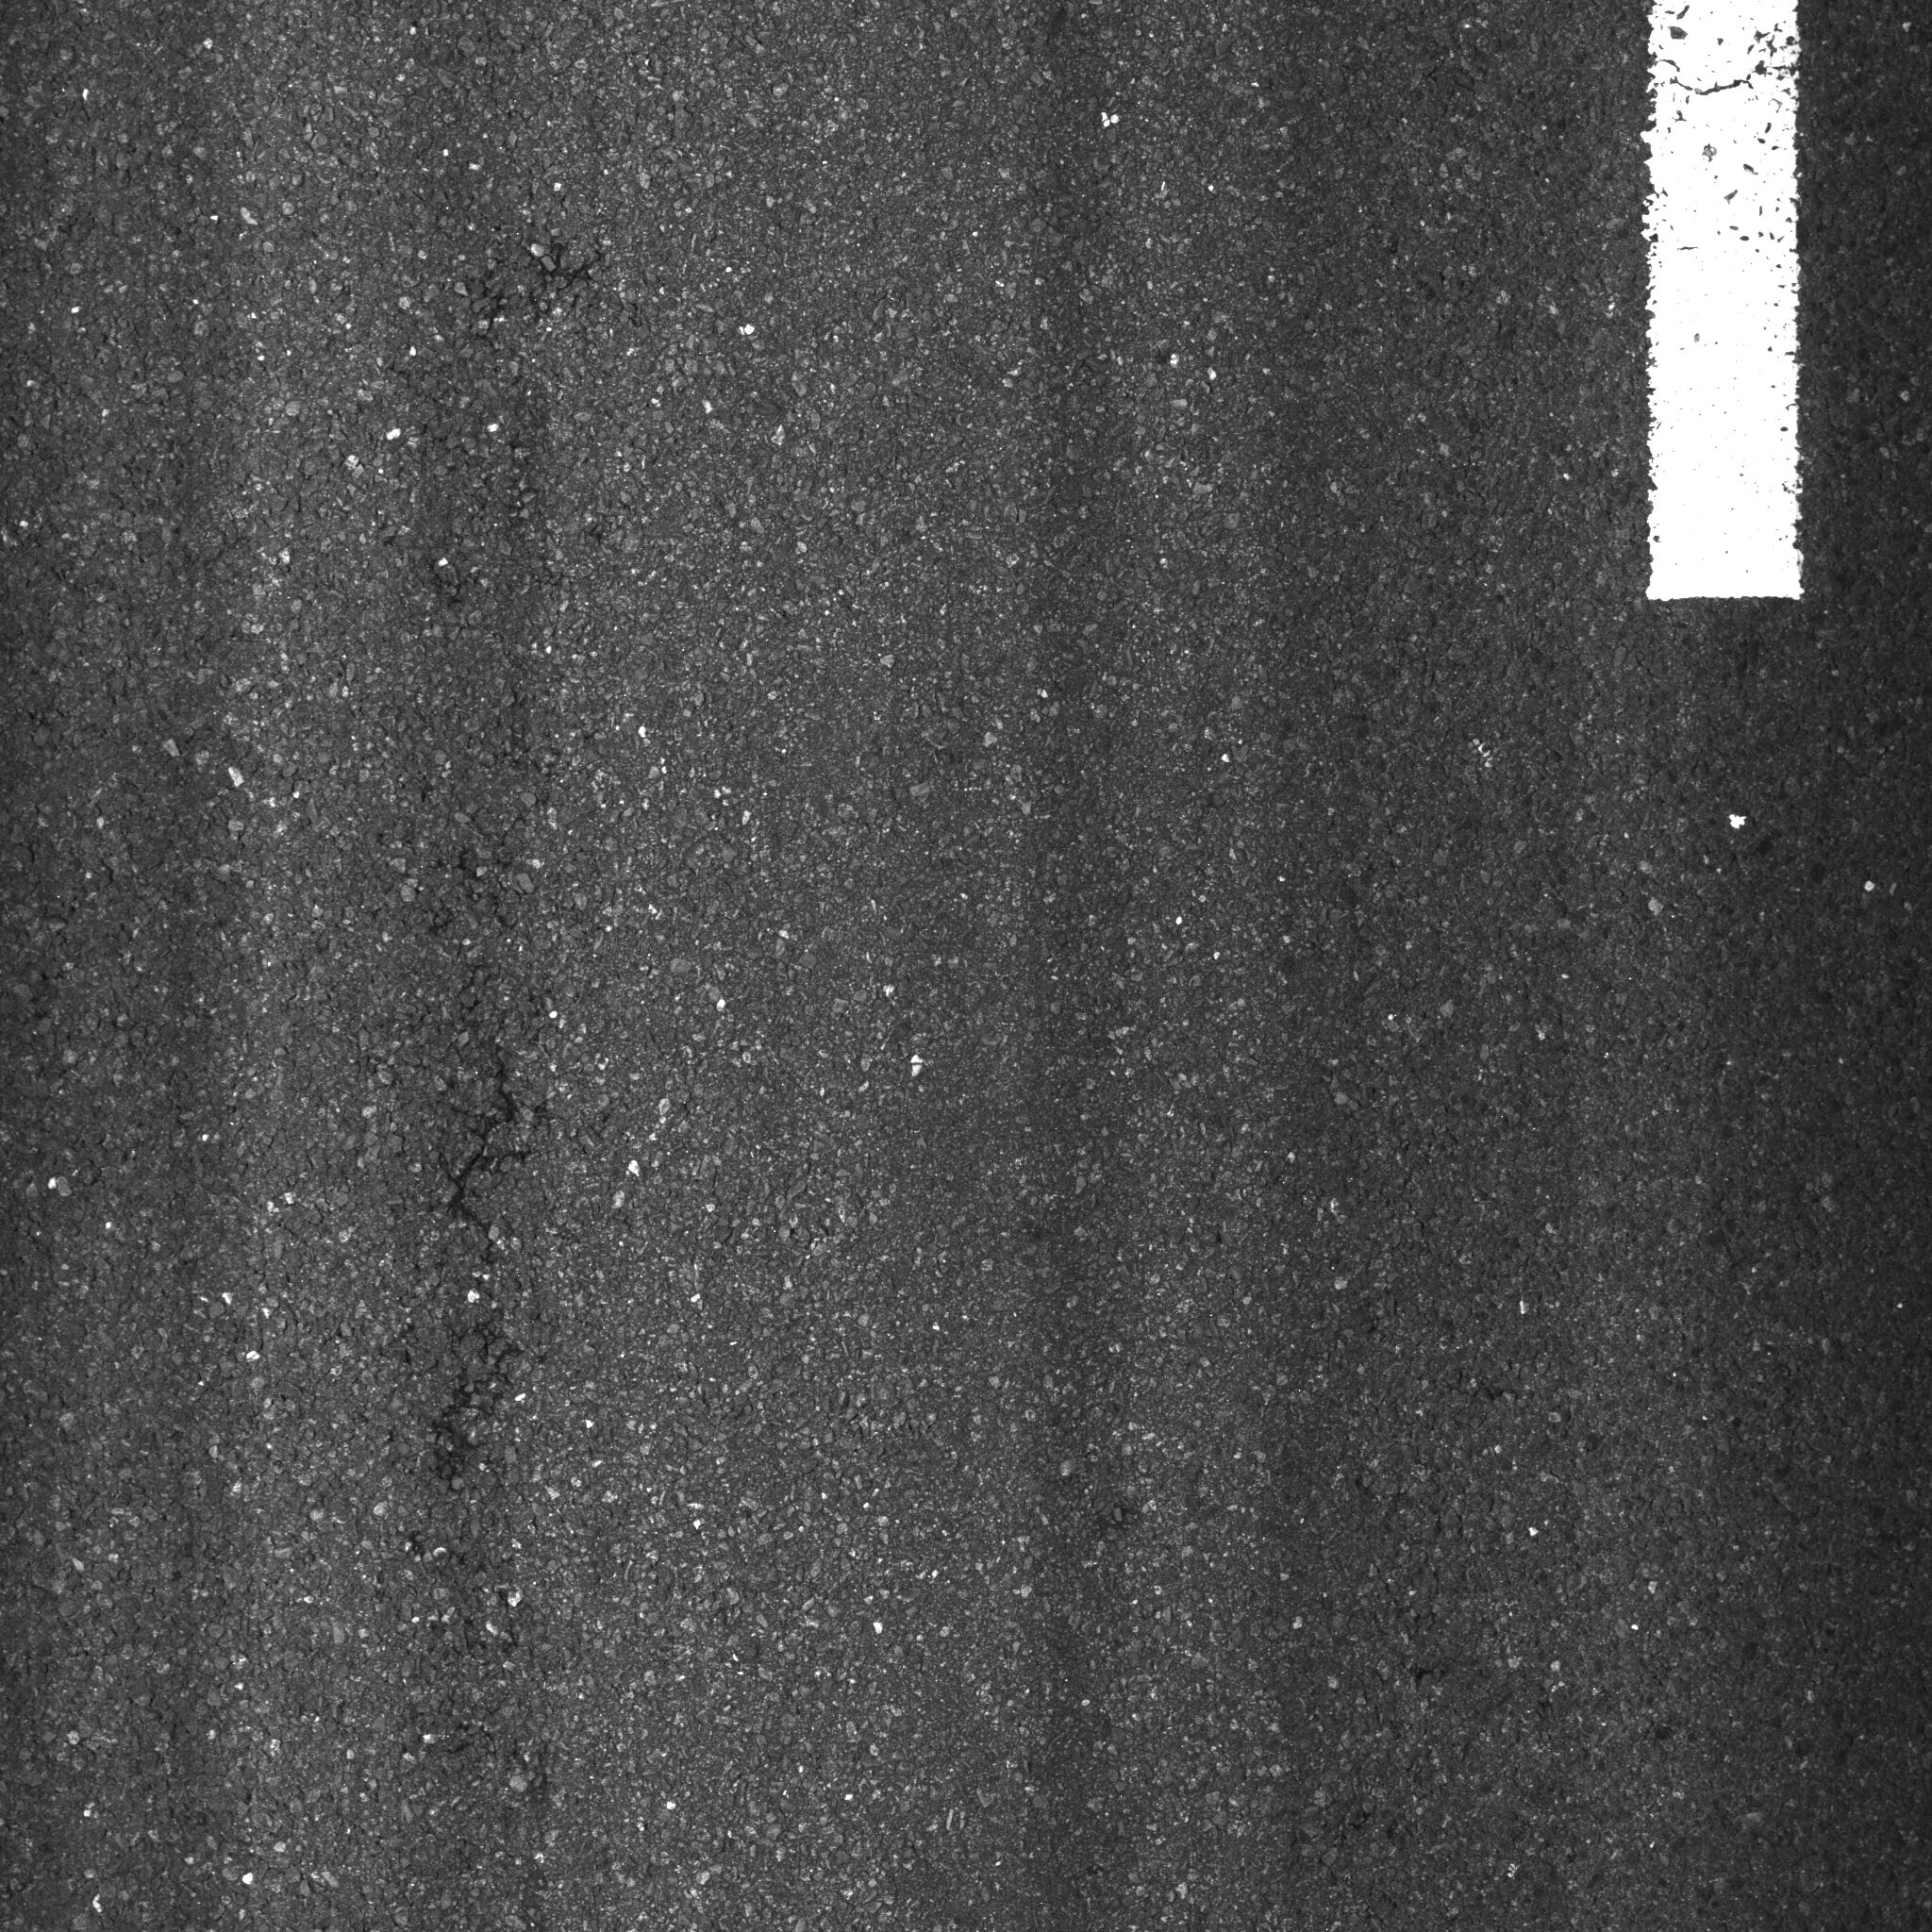longitudinal: (412, 823, 548, 1576)
